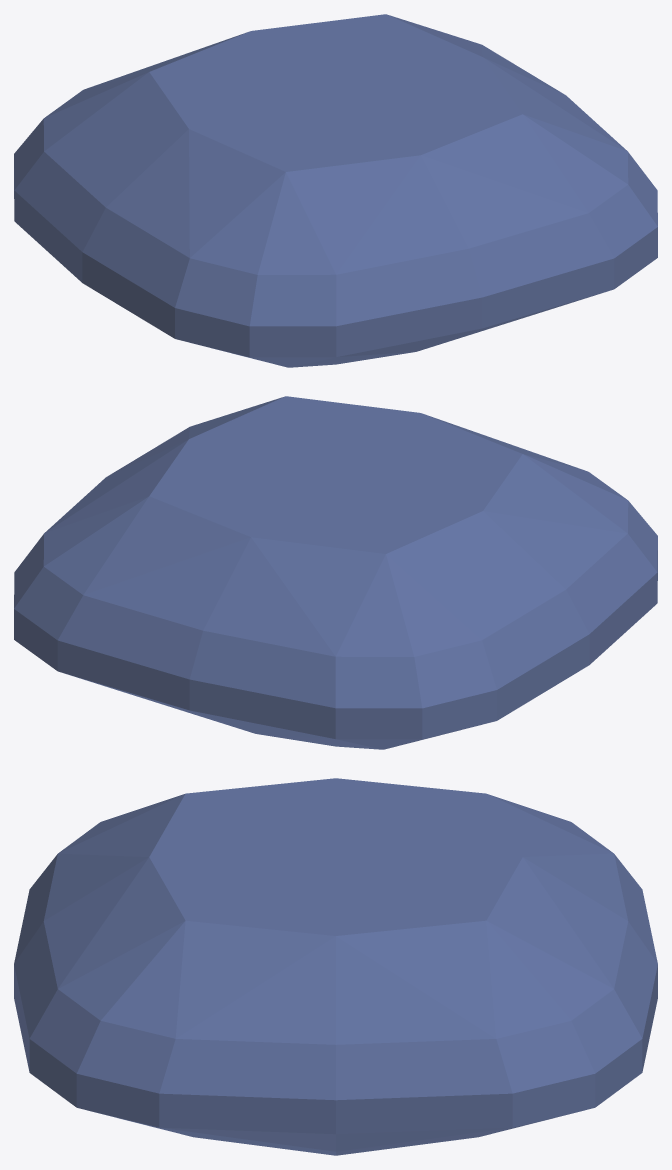
File: cut-sapphire-04ba83.glb
3 renders of one model, top to bottom at view 1: azimuth 30°, elevation 25°; view 2: azimuth 150°, elevation 25°; view 3: azimuth 270°, elevation 25°, orthographic. The views are drawn at different scales.
Parts seen in each view (by area): view 1: gem; view 2: gem; view 3: gem.
Boxes of the visible parts, <box> form: gem: <box>14,14,657,367</box>; gem: <box>14,396,657,749</box>; gem: <box>14,778,657,1155</box>.
Bounding box in the file's own units: 0.12 × 0.0614 × 0.12.
